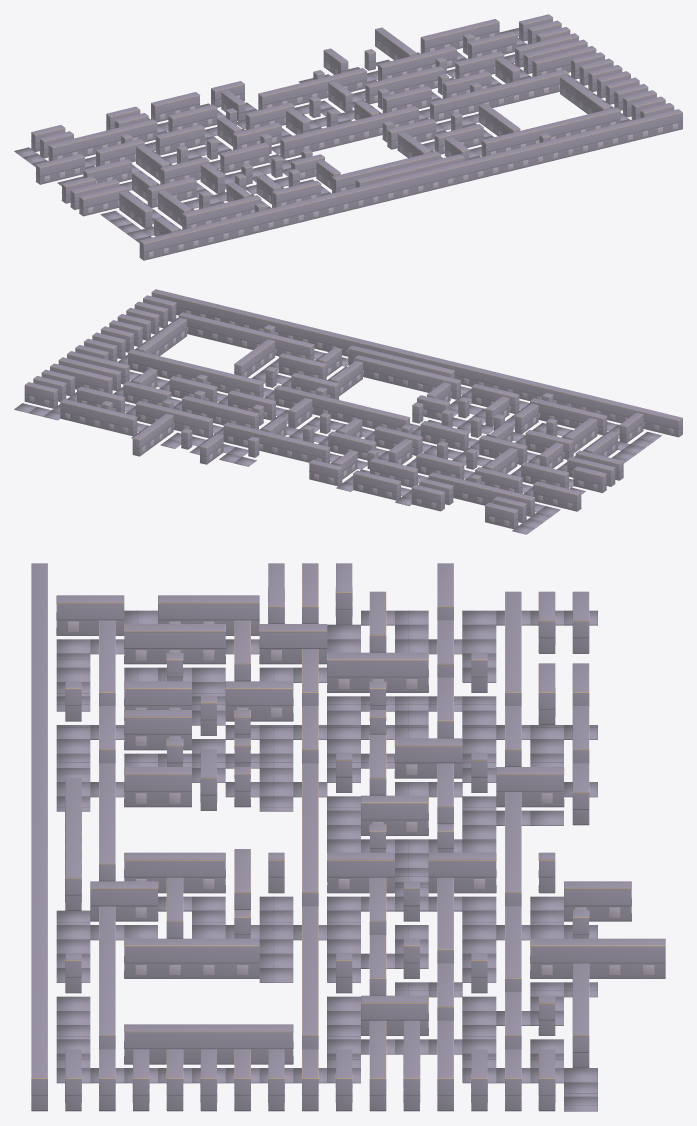
File: castle_district_ward_south_cursed.glb
3 views of the same model, one above another, from view 1: azimuth 30°, elevation 25°; view 2: azimuth 150°, elevation 25°; view 3: azimuth 270°, elevation 25° (orthographic). The views are drawn at different scales.
Visible parts, largest first — view 1: castle_district_ward_south_cursed_surface; view 2: castle_district_ward_south_cursed_surface; view 3: castle_district_ward_south_cursed_surface.
Part boxes in pixels (x1,y1,x2,y2): castle_district_ward_south_cursed_surface: [14, 14, 682, 260]; castle_district_ward_south_cursed_surface: [14, 289, 682, 534]; castle_district_ward_south_cursed_surface: [31, 563, 665, 1111].
Size of the model in its own units: 180 by 5.56 by 93.77.
